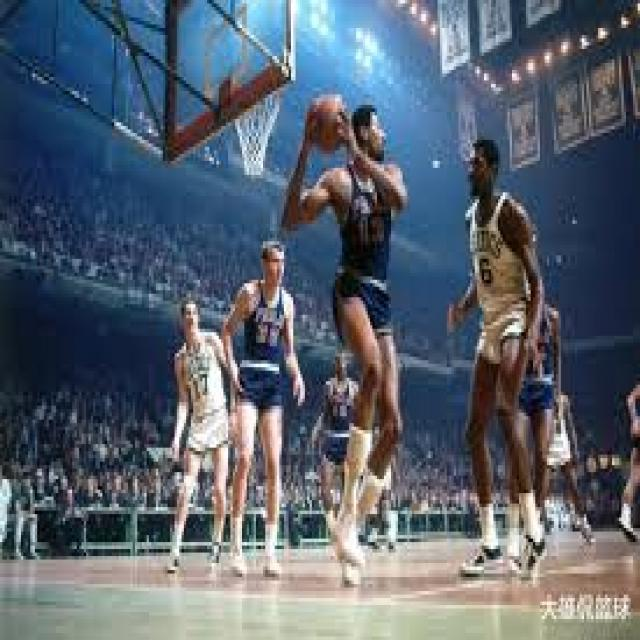rim: (312, 94, 347, 147)
